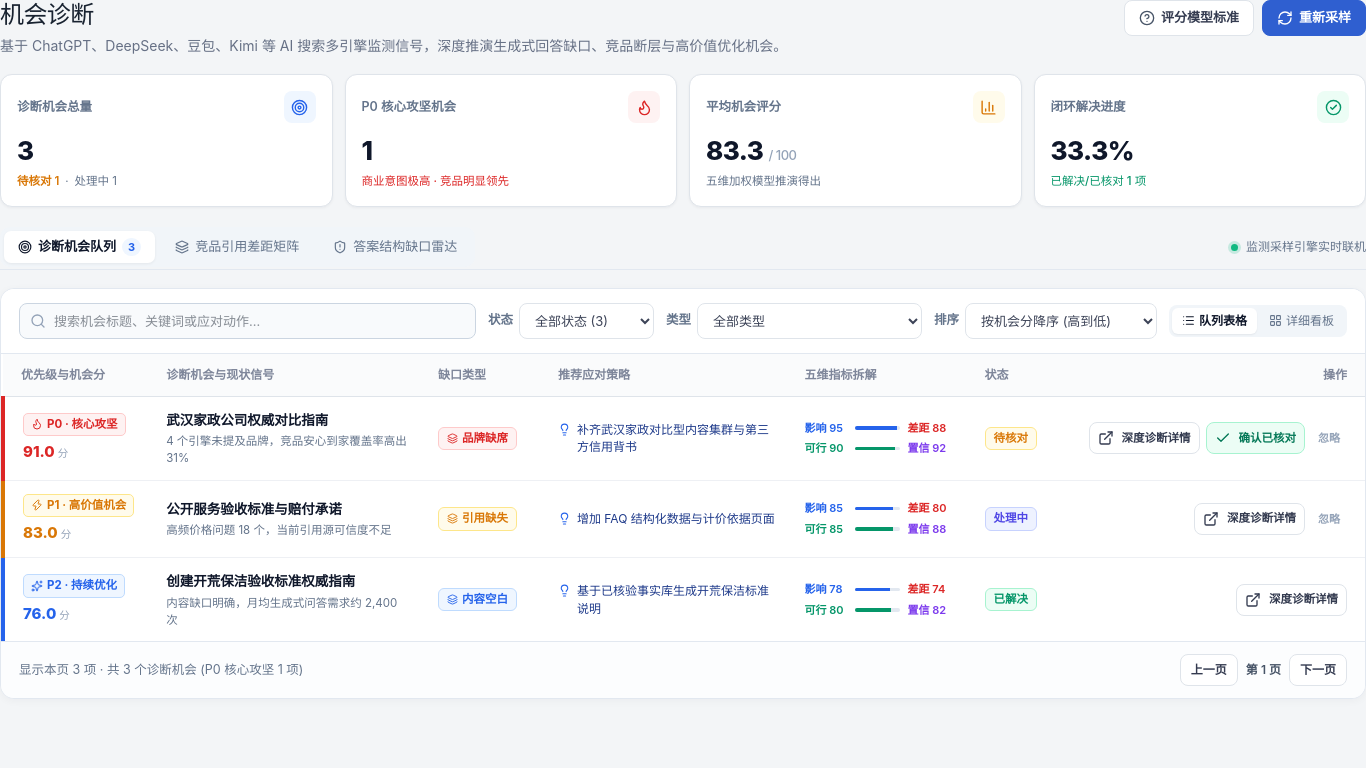
Test: DiagnosisView Component Redesign › opens and closes the in-depth opportunity diagnosis detail drawer
The image size is (1366, 768).
Expected: the text "武汉家政公司权威对比指南" is shown, [166,412,328,428]
# Click on detail button
Step 1. Click the button "深度诊断详情" in the row of "P0 · 核心攻坚" → [1144, 438], box [1088,422,1200,454]
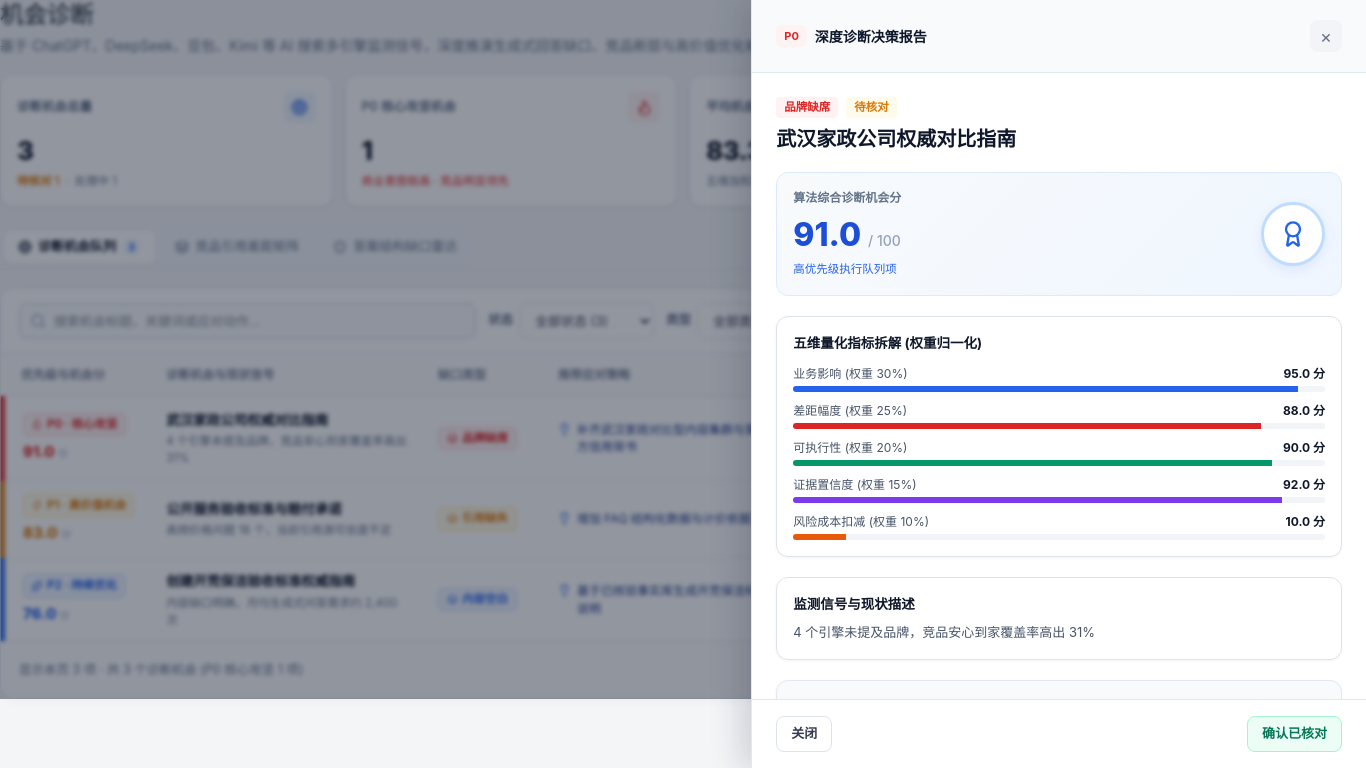
Expected: the text "深度诊断决策报告" is shown, [815,26,927,46]
Expected: the heading "五维量化指标拆解 (权重归一化)" is shown, [793,334,982,350]
# Close drawer
Step 2. Click the button "关闭" → [804, 734], box [776,716,832,752]
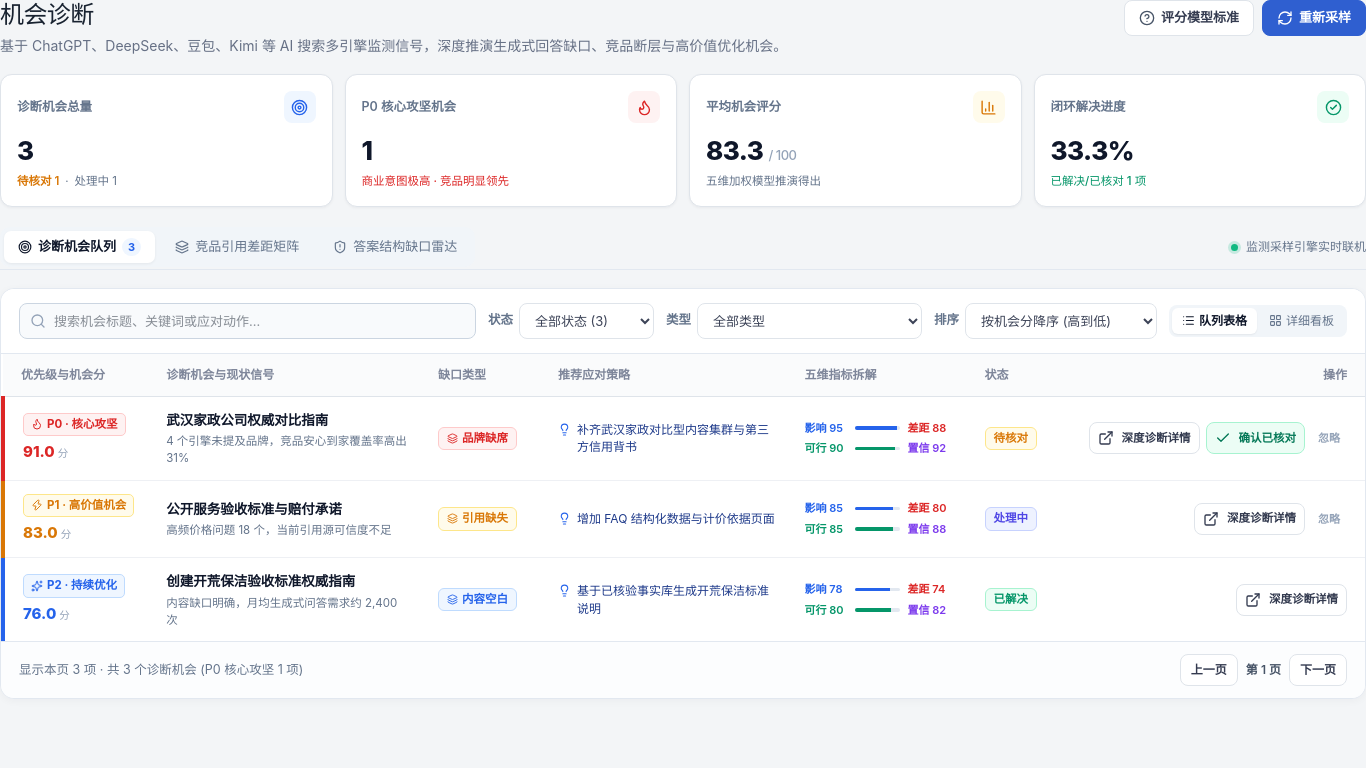
Expected: the text "深度诊断决策报告" is gone
